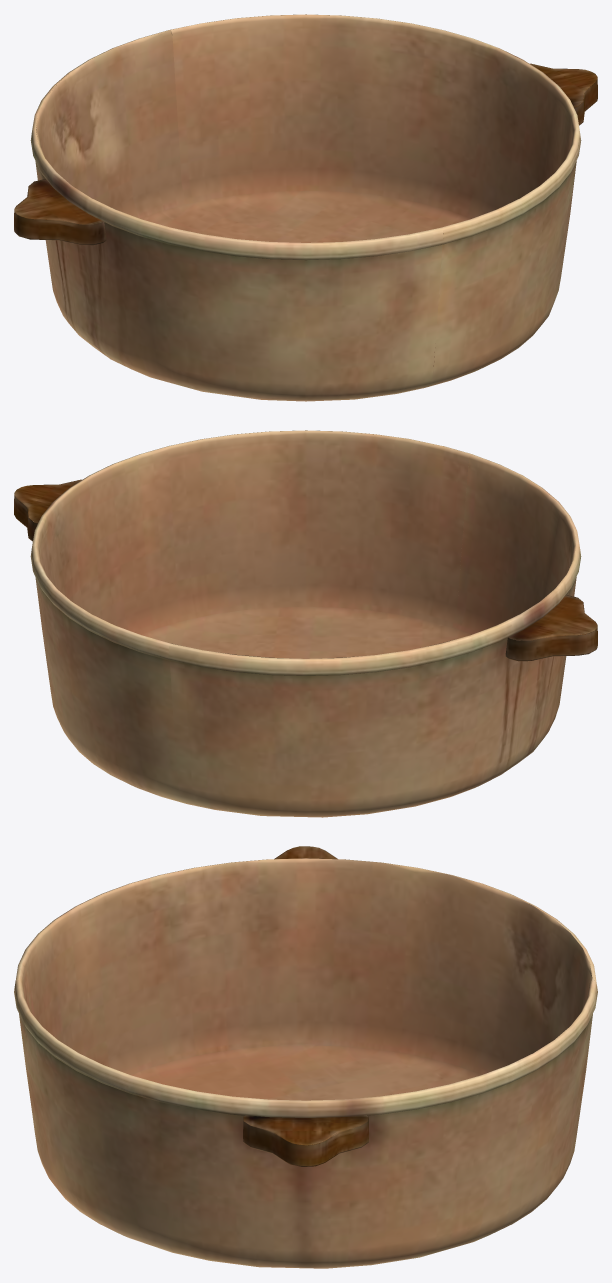
File: brass_pot_02.glb
3 renders of one model, top to bottom at view 1: azimuth 30°, elevation 25°; view 2: azimuth 150°, elevation 25°; view 3: azimuth 270°, elevation 25°, orthographic. The views are drawn at different scales.
Visible parts, largest first — view 1: brass_pot_02; view 2: brass_pot_02; view 3: brass_pot_02.
Part boxes in pixels (x1,y1,x2,y2): brass_pot_02: (14,14,597,401); brass_pot_02: (14,430,597,817); brass_pot_02: (14,846,597,1268).
Bounding box in the file's own units: 0.3666 × 0.1086 × 0.3023.
Materials: 1 (1 with a texture image).
